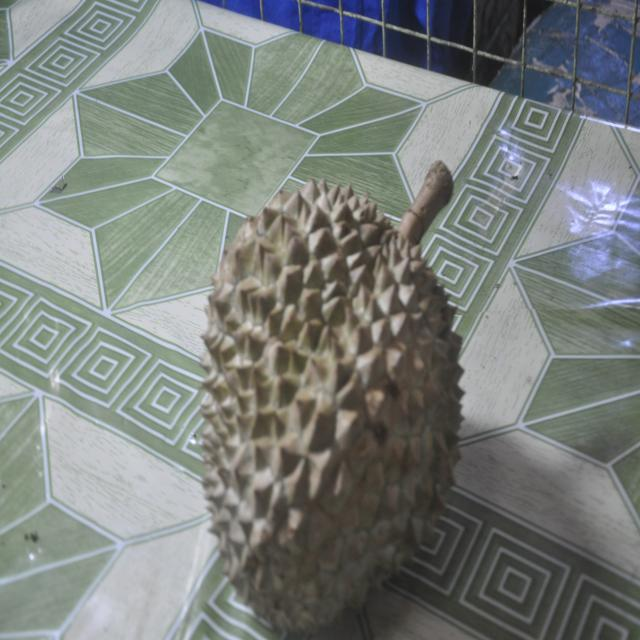mature: (201, 163, 462, 630)
